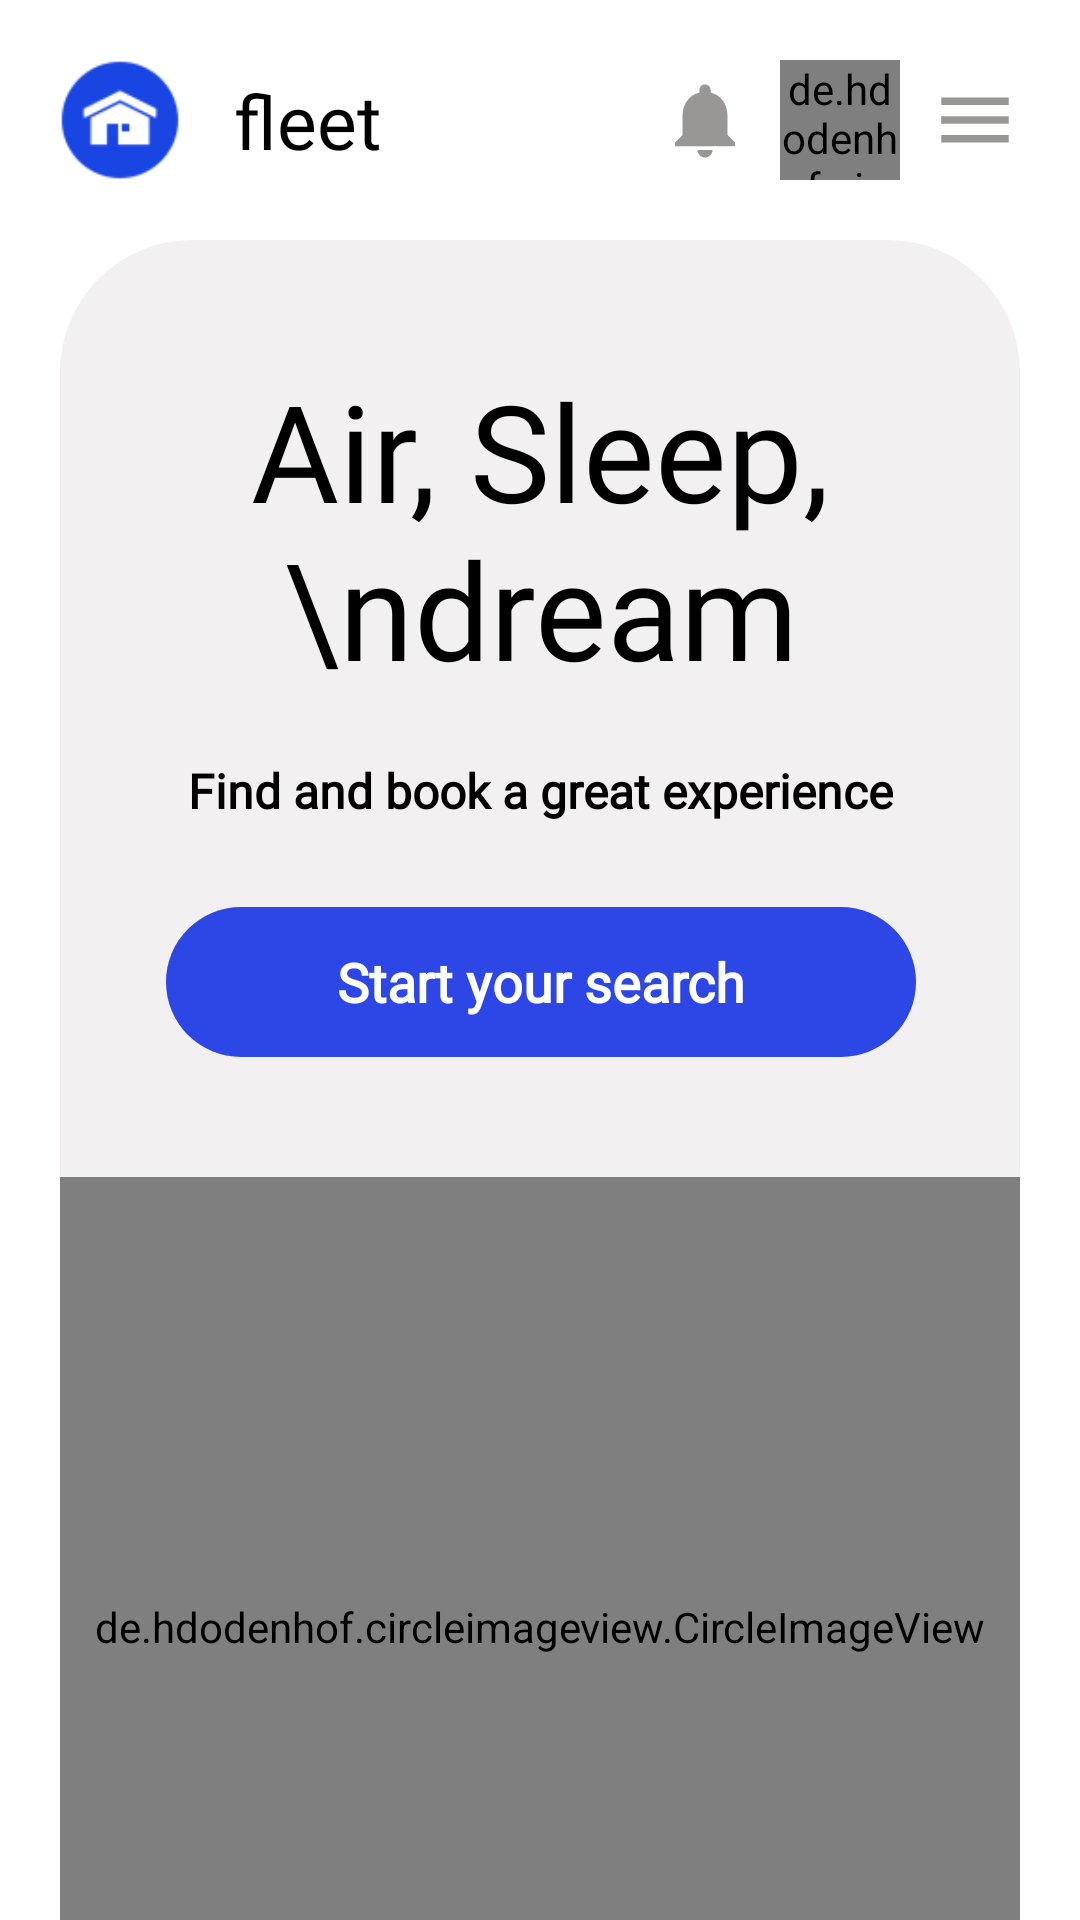

Where icons sit on this 1080px×1920px app screen, as (x1, y1, x2, y2):
homeiconblue: (61, 61, 179, 179)
menu: (941, 97, 1009, 143)
notification: (675, 84, 735, 158)
